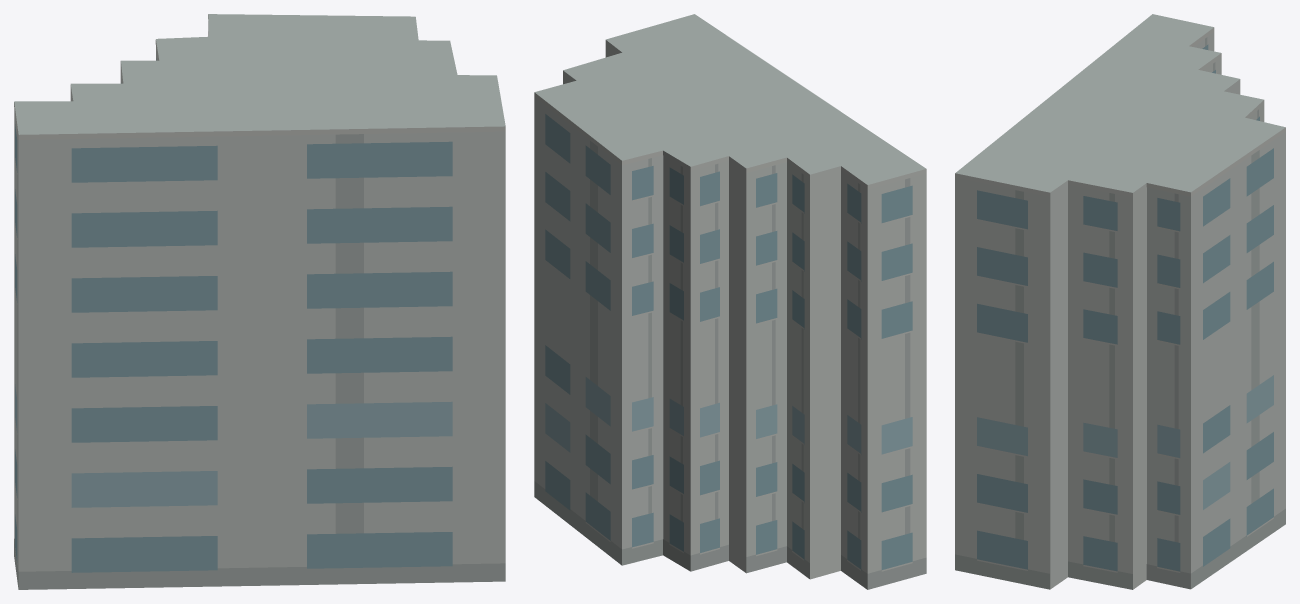
Rendered from survey-upis-32773510.glb.
3 views of the same model, side by side, from view 1: azimuth 30°, elevation 25°; view 2: azimuth 150°, elevation 25°; view 3: azimuth 270°, elevation 25° (orthographic). The views are drawn at different scales.
Parts seen in each view (by area): view 1: survey-upis-32773510.tmp; view 2: survey-upis-32773510.tmp; view 3: survey-upis-32773510.tmp.
Part boxes in pixels (left/top/right/bottom): survey-upis-32773510.tmp: left=14, top=14, right=505, bottom=589; survey-upis-32773510.tmp: left=534, top=14, right=926, bottom=589; survey-upis-32773510.tmp: left=955, top=14, right=1285, bottom=589.
Size of the model in its own units: 20.64 by 21.35 by 16.13.
